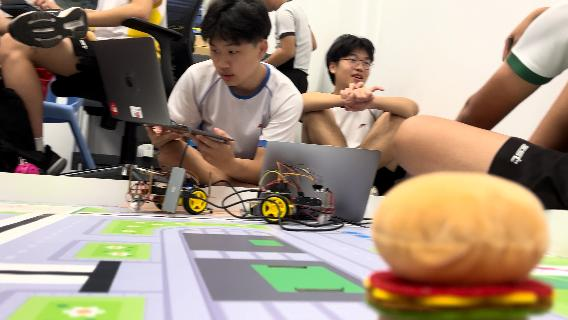burger: (366, 168, 556, 320)
